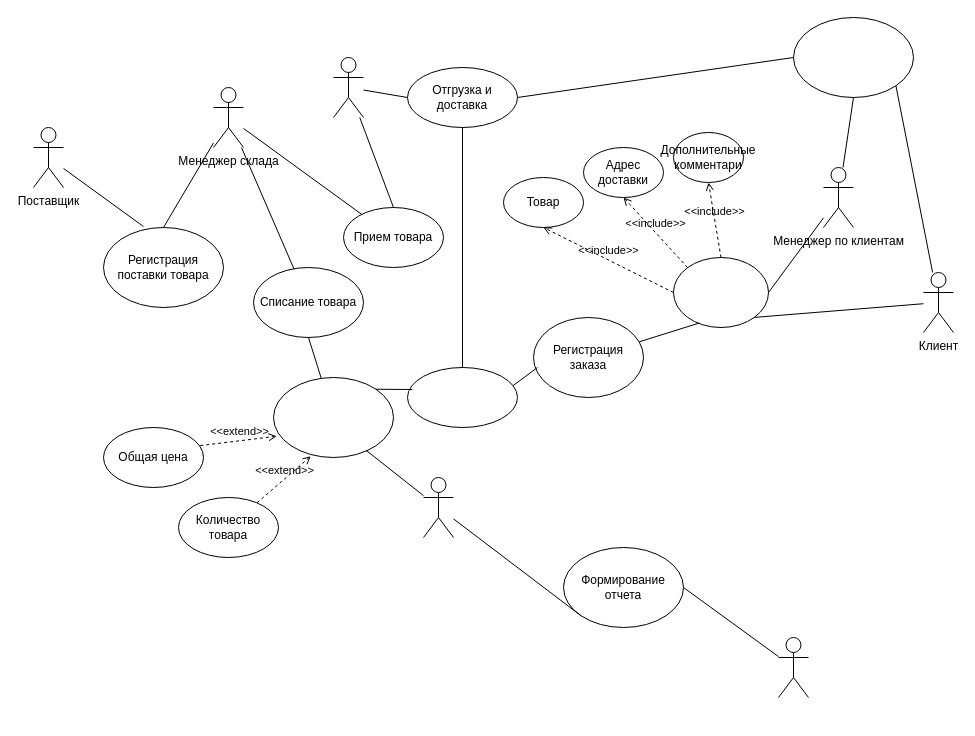
Some shapes in this 975 by 736 pixel diagram are drawn without their labels. Each missing label, with the centre of its shape:
"Бухгатлерия" goes at point 438,507.
"Директор" goes at point 793,667.
"Обработка заказа клиента" goes at point 720,292.
"Подтверждение получения товара" goes at point 853,57.
"Покупка товара" goes at point 462,397.
"Сотрудники" goes at point 348,87.
"Учет остатка товаров" goes at point 333,417.
